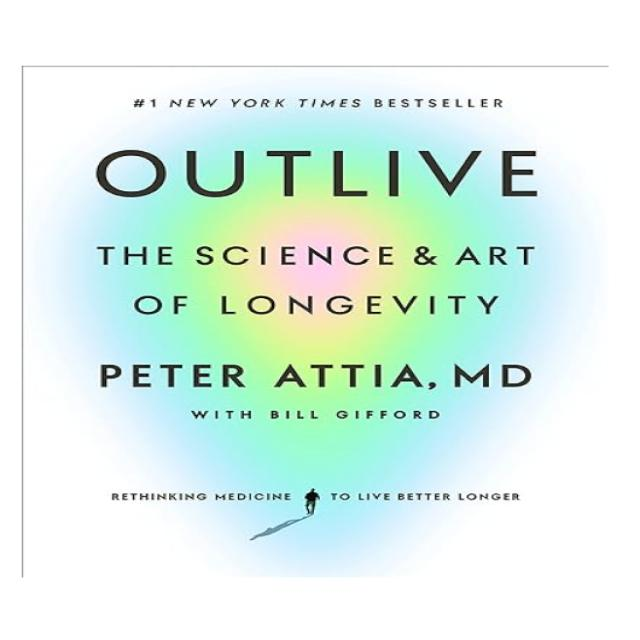titles-or-authors: (58, 135, 569, 325), (90, 355, 543, 392)
